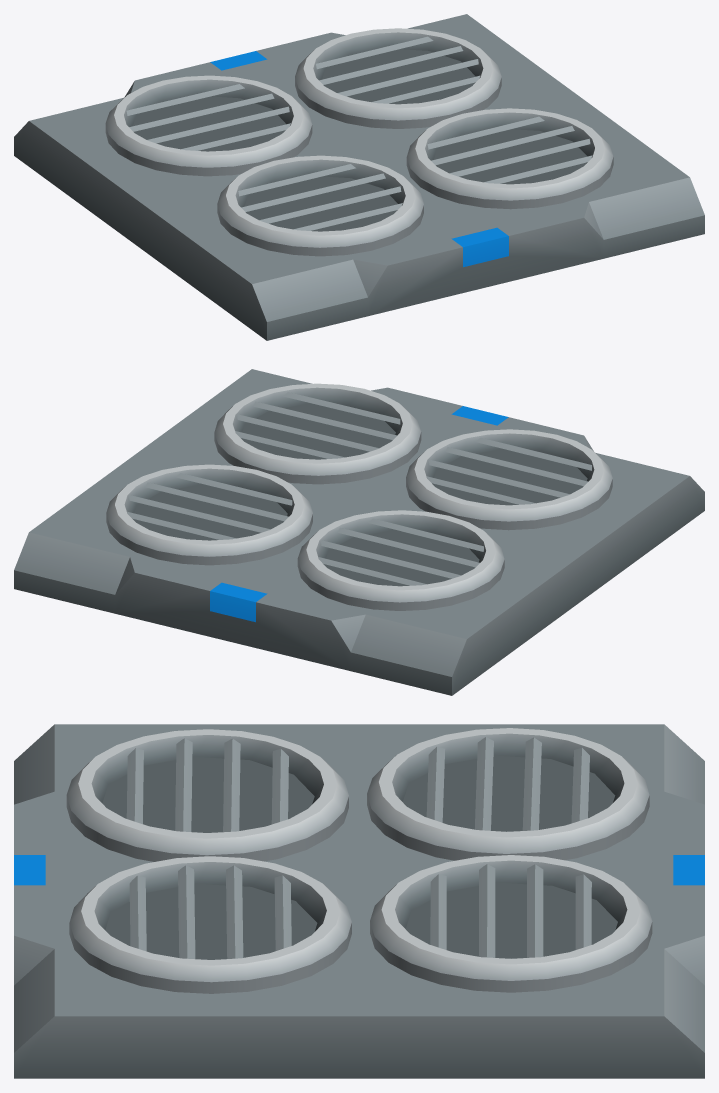
Rendered from Ventilation_018.glb.
The picture shows the model from 3 angles, top to bottom: view 1: azimuth 30°, elevation 25°; view 2: azimuth 150°, elevation 25°; view 3: azimuth 270°, elevation 25°; orthographic projection. The views are drawn at different scales.
Visible parts, largest first — view 1: Ventilation_018; view 2: Ventilation_018; view 3: Ventilation_018.
Part boxes in pixels (x1=…): Ventilation_018: x1=14, y1=14, x2=704, y2=340; Ventilation_018: x1=14, y1=369, x2=704, y2=695; Ventilation_018: x1=14, y1=724, x2=704, y2=1078.
Size of the model in its own units: 1 by 0.1373 by 1.
Materials: 2 (2 with a texture image).
